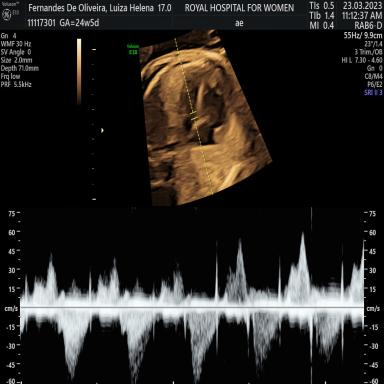Ultrasound-Waves: (25, 210, 360, 384)
